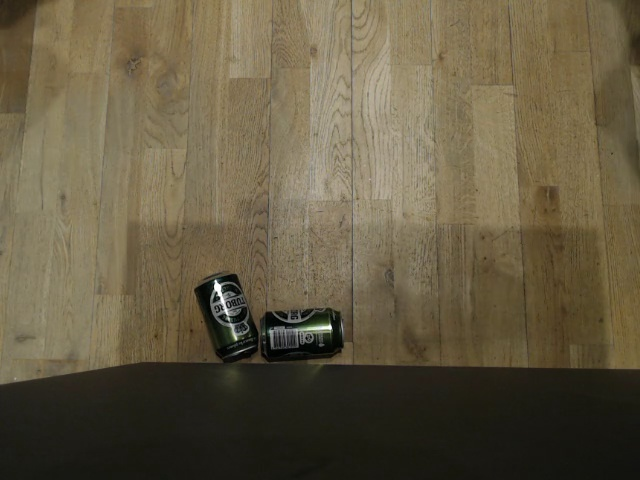beer: (194, 270, 259, 363), (260, 306, 344, 361)
